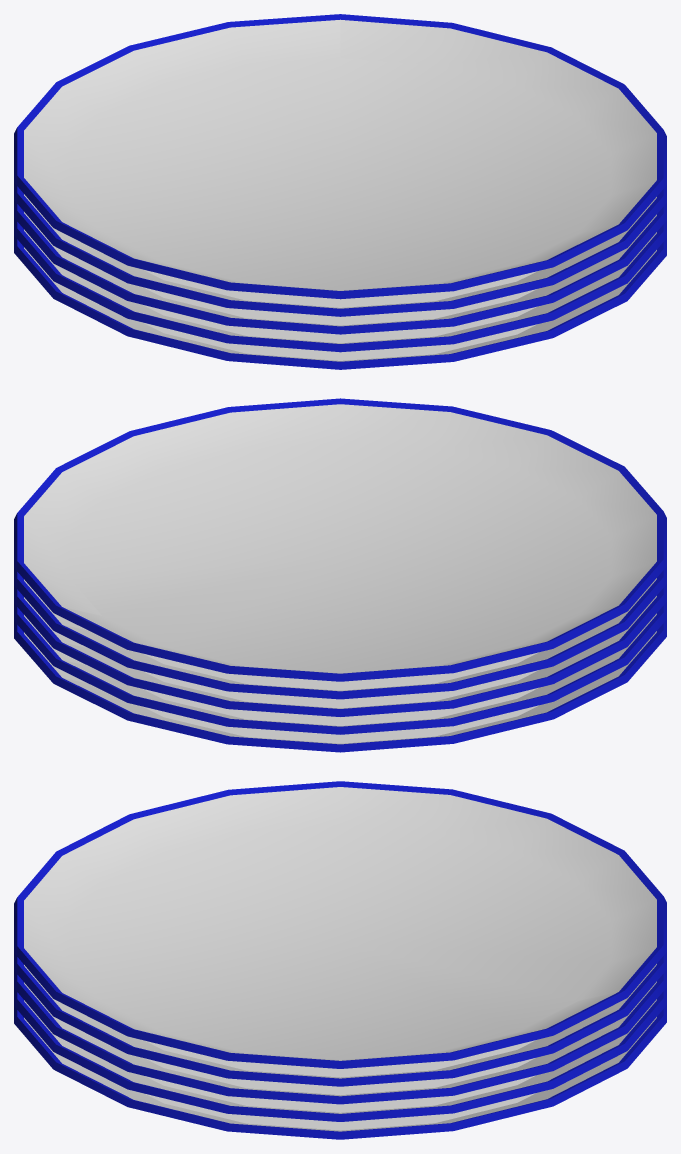
File: Dish_V1_5PC.fbx
The picture shows the model from 3 angles, top to bottom: view 1: azimuth 30°, elevation 25°; view 2: azimuth 150°, elevation 25°; view 3: azimuth 270°, elevation 25°; orthographic projection.
Visible parts, largest first — view 1: Dish_V1_5Pile; view 2: Dish_V1_5Pile; view 3: Dish_V1_5Pile.
Boxes of the visible parts, x1=… form: Dish_V1_5Pile: x1=14, y1=14, x2=666, y2=369; Dish_V1_5Pile: x1=14, y1=398, x2=666, y2=752; Dish_V1_5Pile: x1=14, y1=781, x2=666, y2=1139.
Bounding box in the file's own units: 44.9 × 7.61 × 44.22.
